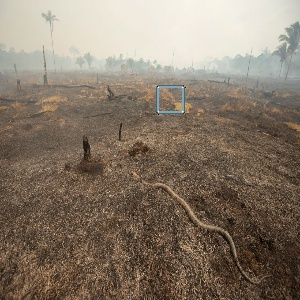square: (155, 83, 186, 116)
